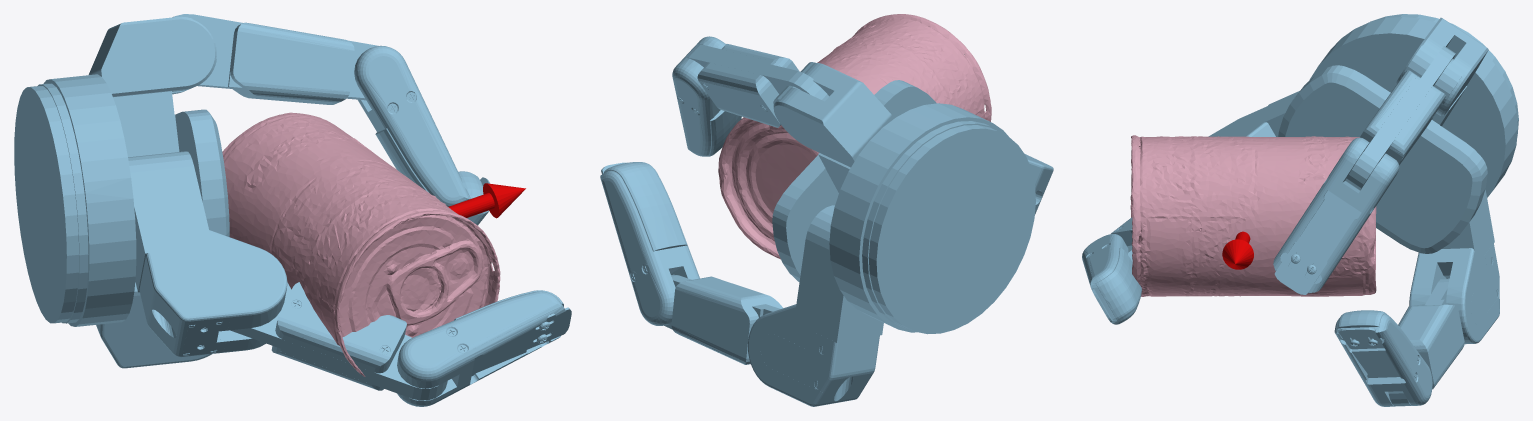
3 renders of one model, left to right at view 1: azimuth 30°, elevation 25°; view 2: azimuth 150°, elevation 25°; view 3: azimuth 270°, elevation 25°, orthographic. The views are drawn at different scales.
Parts seen in each view (by area): view 1: world, tomato_soup_can.stl; view 2: world, tomato_soup_can.stl; view 3: world, tomato_soup_can.stl.
Boxes of the visible parts, box(x1,y1,x2,y2) form: world: box(14, 14, 571, 406); tomato_soup_can.stl: box(222, 112, 500, 376); world: box(600, 36, 1053, 406); tomato_soup_can.stl: box(718, 14, 991, 259); world: box(1082, 14, 1518, 406); tomato_soup_can.stl: box(1130, 135, 1376, 296).
Size of the model in its own units: 0.1844 by 0.1371 by 0.181.
